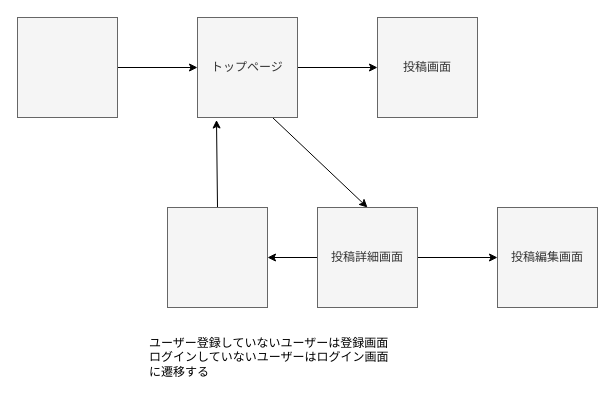
Image size: 615x405. Some labels were removed from this diagram. The shapes that lost their labels are listed below. From the top down, each one's centre as x and y in pixels, then its label:
At (x=67, y=67): "ユーザー 登録画面".
At (x=217, y=257): "ログイン画面".
